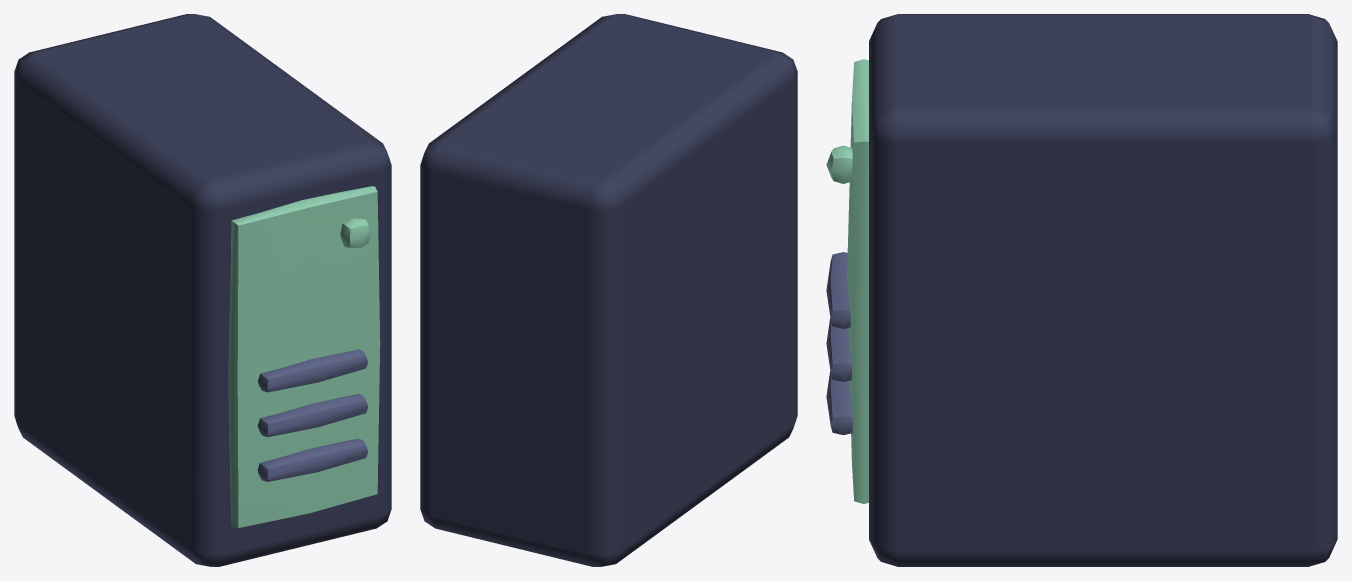
Rendered from pc-tower.glb.
3 renders of one model, left to right at view 1: azimuth 30°, elevation 25°; view 2: azimuth 150°, elevation 25°; view 3: azimuth 270°, elevation 25°, orthographic. The views are drawn at different scales.
Visible parts, largest first — view 1: part (×6); view 2: part; view 3: part (×6).
Part boxes in pixels (box(x1,y1,x2,y2)): part (×6): box(14, 14, 391, 566); part: box(420, 14, 797, 566); part (×6): box(826, 14, 1337, 566).
Size of the model in its own units: 0.476 by 0.884 by 0.8899.
1 material, 1 textured.
